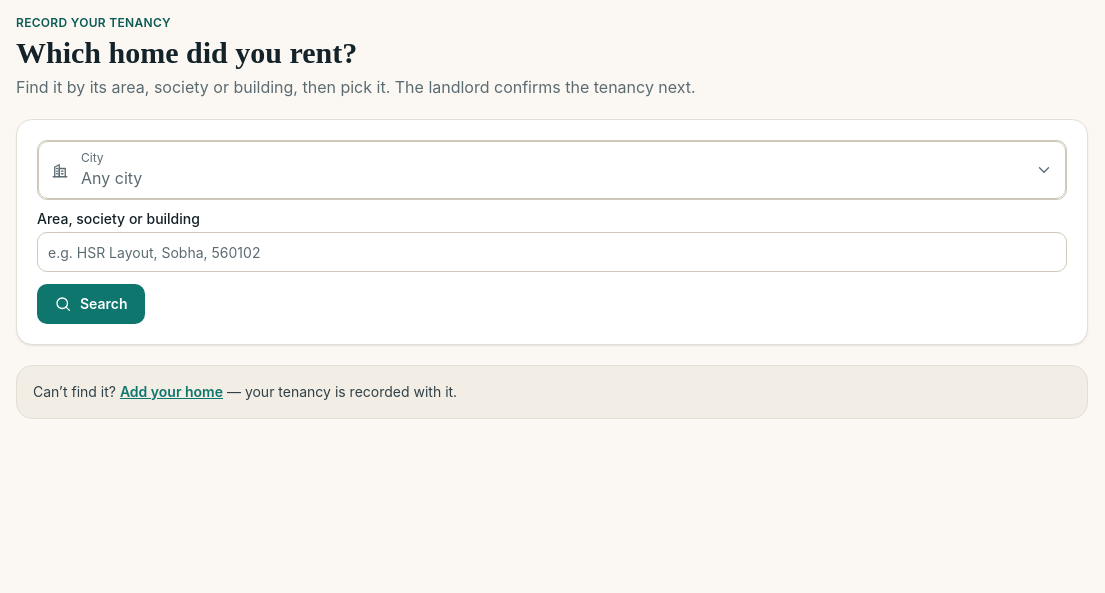
TenancyRequestPage: Which home did you rent? (captain 2026-11-28) › asks a tenant for the home first, then opens the tenancy form for the picked one
Expected: the heading "Which home did you rent?" is shown, [16,36,357,69]
Type "Koramangala" into the field labelled "Area, society or building" at {"x": 552, "y": 252}, box [37,232,1067,272]
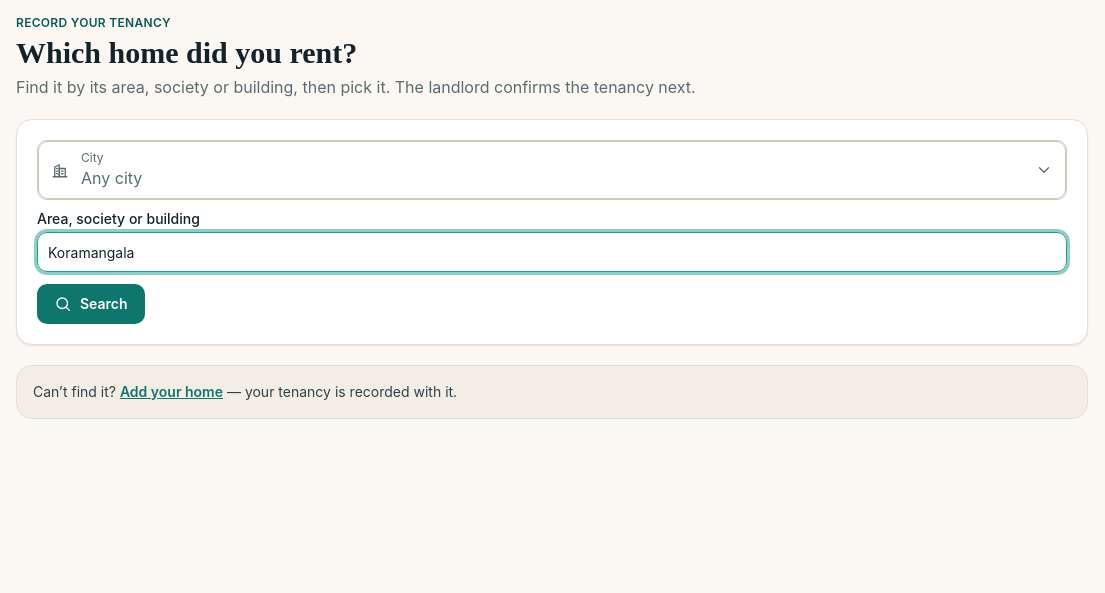
Click the button "Search" at {"x": 91, "y": 304}, box [37,284,144,324]
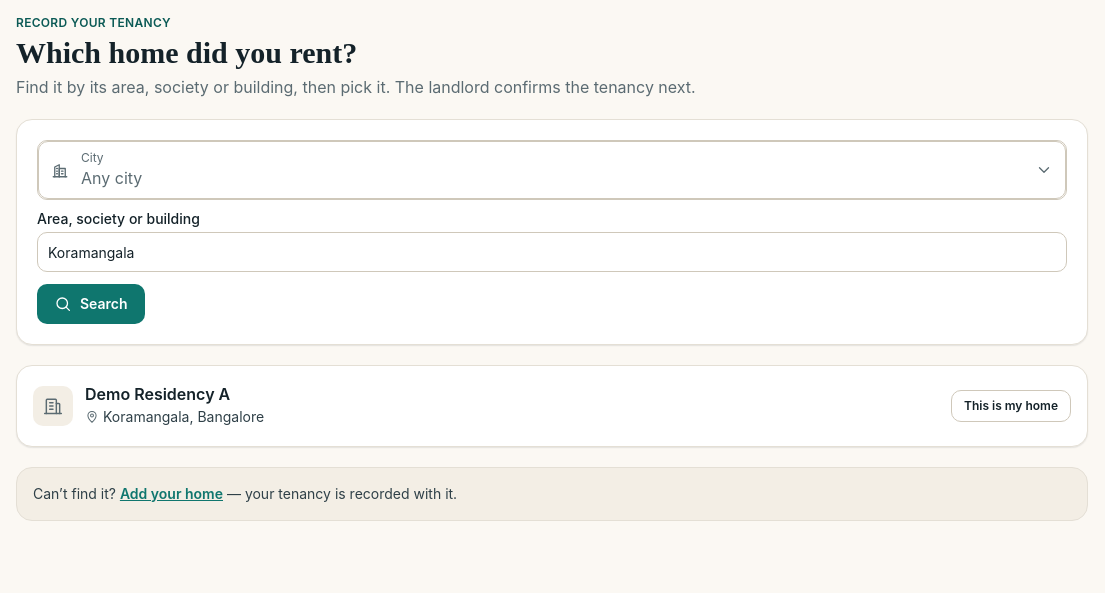
Click the link with aria-label "Pick Demo Residency A" at {"x": 1011, "y": 406}, box [951,390,1071,422]
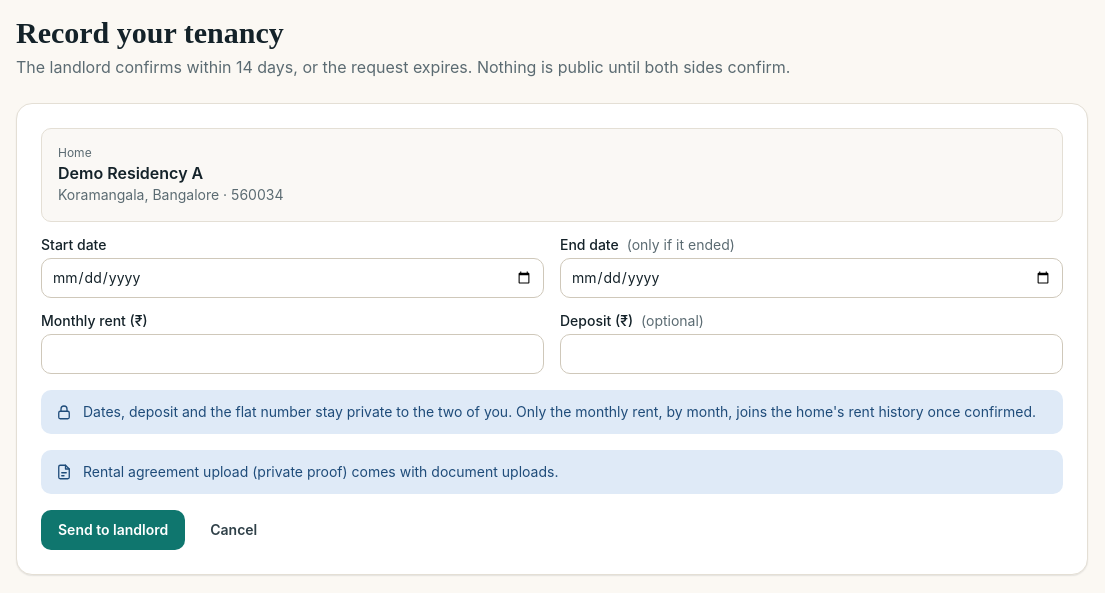
Expected: the heading "Record your tenancy" is shown, [16,16,284,49]
Result: the form named "Tenancy request" is shown
